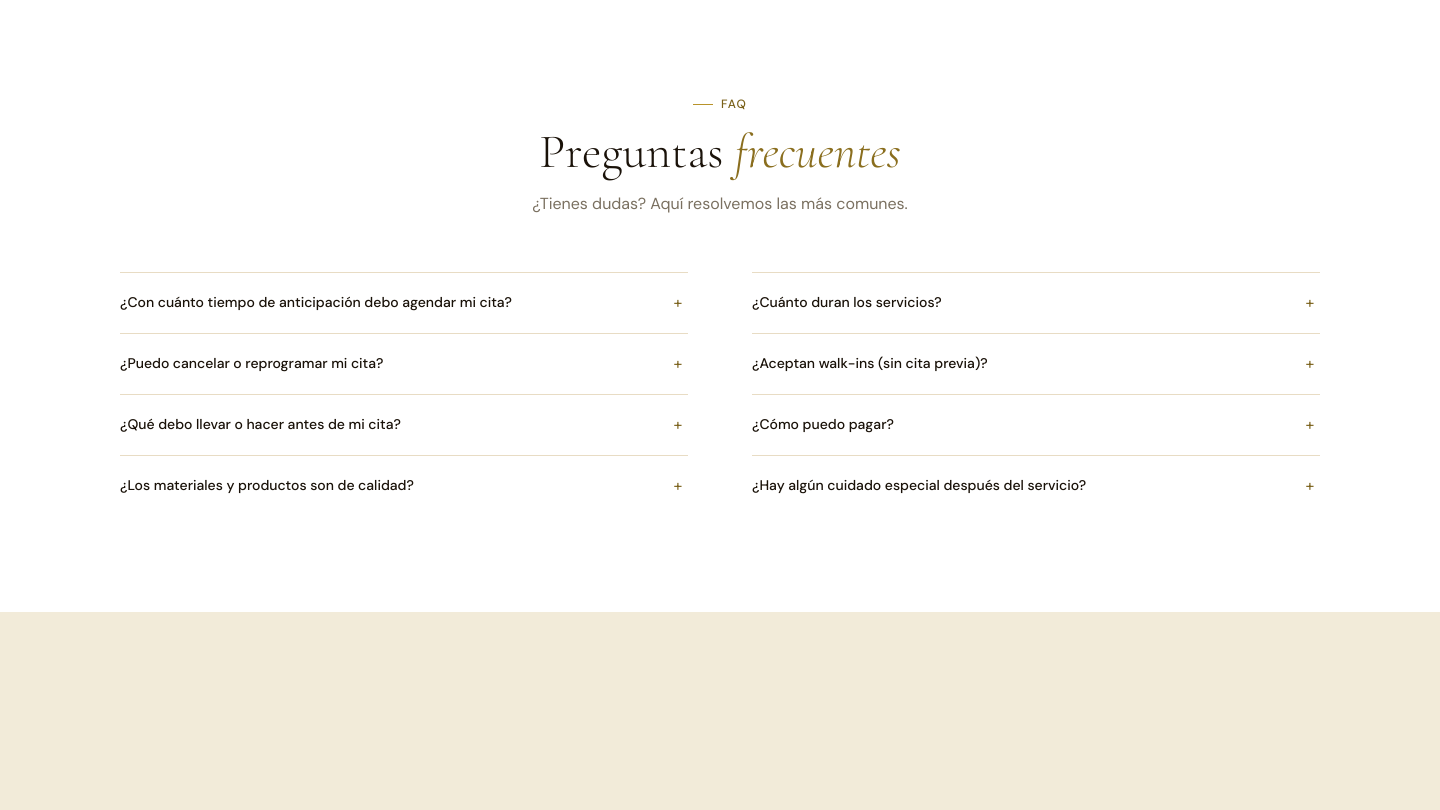
Test case: FAQ › only one item is open at a time
What coordinates should you click on to do the following:
click the button "¿Con cuánto tiempo de anticipación debo agendar mi cita? +"
I would click on:
 (404, 303)
Its box is [120,273,688,333].
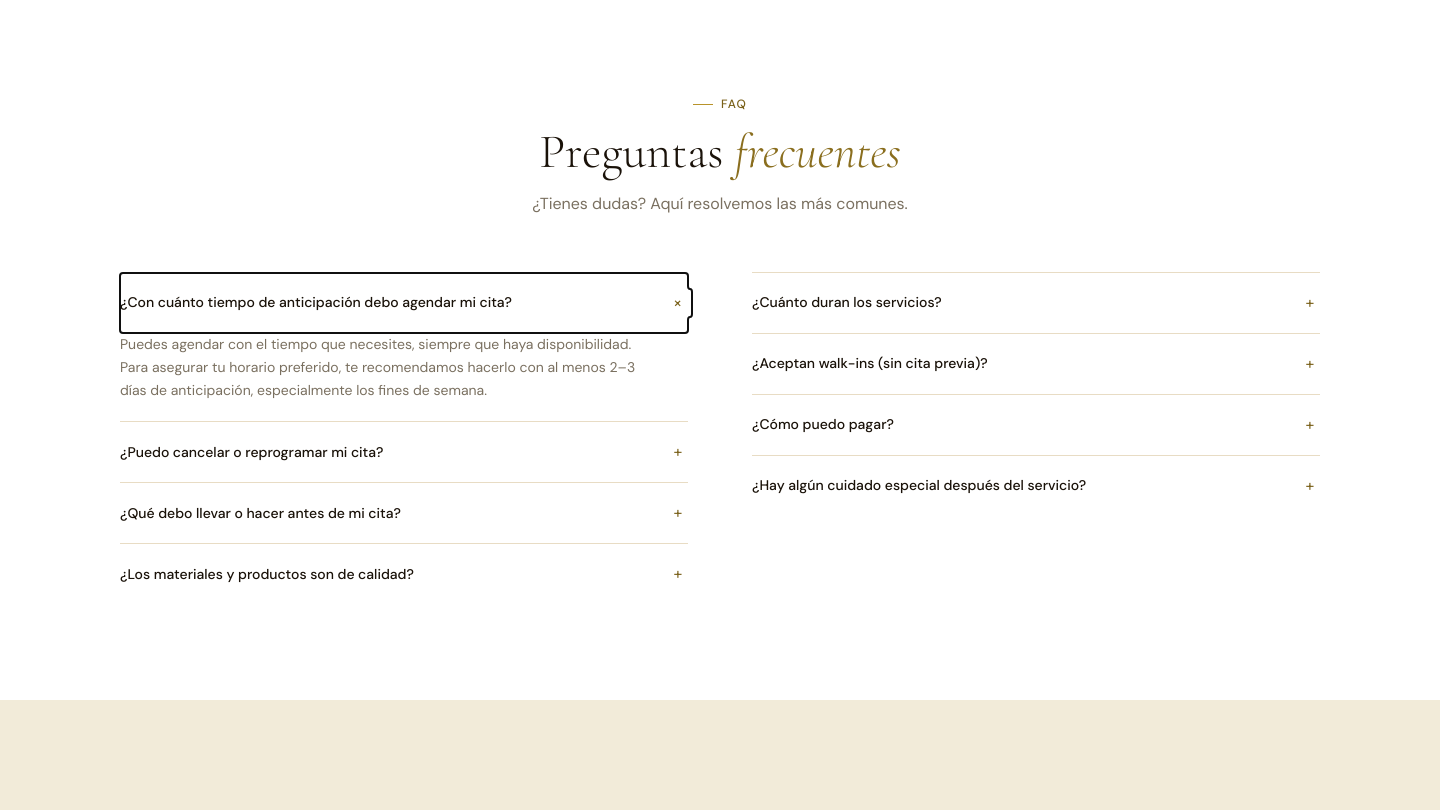
What coordinates should you click on to do the following:
click the button "¿Puedo cancelar o reprogramar mi cita? +"
I would click on:
 (252, 452)
Its box is [120,422,688,482].
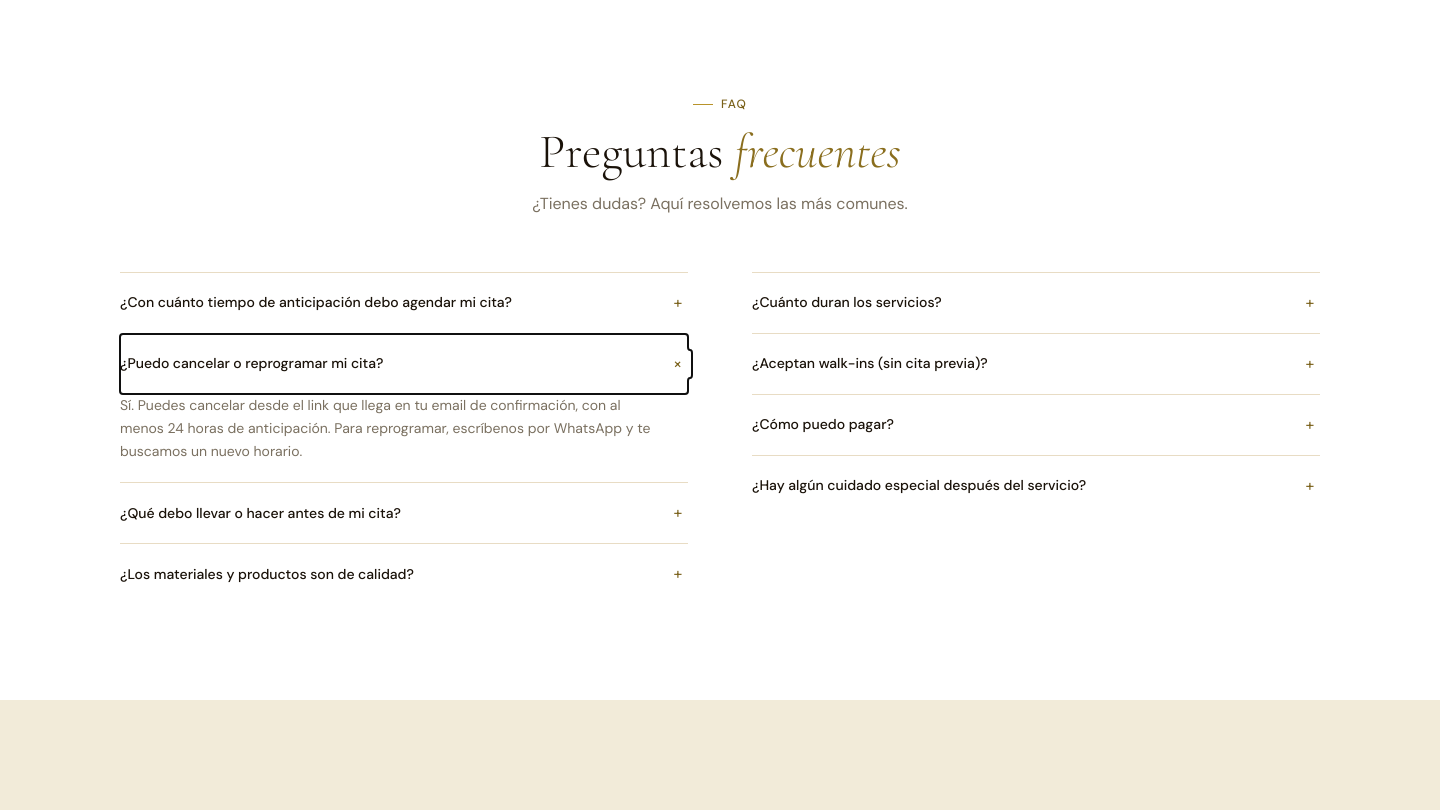
Expected: the button "¿Con cuánto tiempo de anticipación debo agendar mi cita? +" is collapsed, [120,273,688,333]
Expected: the button "¿Puedo cancelar o reprogramar mi cita? +" is expanded, [120,334,688,394]
